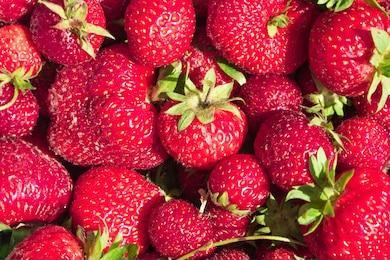Fresa: (296, 162, 390, 260), (305, 2, 390, 108), (158, 85, 251, 175)
